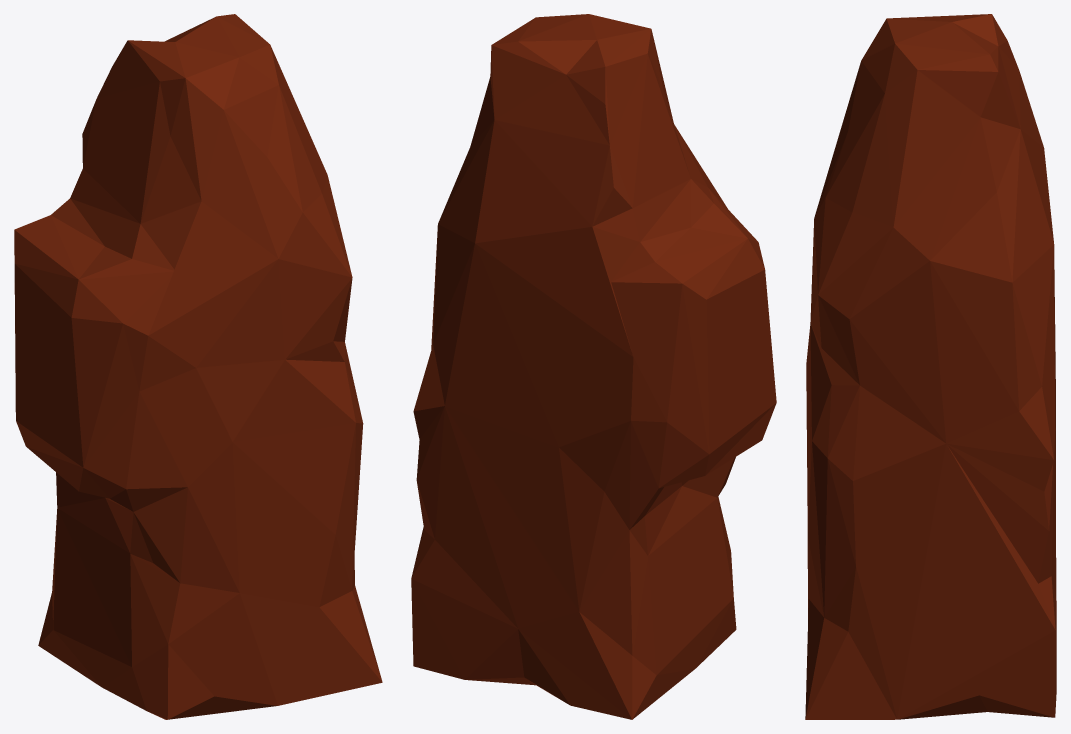
Rendered from stone1.fbx.
3 renders of one model, left to right at view 1: azimuth 30°, elevation 25°; view 2: azimuth 150°, elevation 25°; view 3: azimuth 270°, elevation 25°, orthographic.
Parts seen in each view (by area): view 1: Cube; view 2: Cube; view 3: Cube.
Boxes of the visible parts, bbox=[...] form: Cube: bbox=[14, 14, 382, 719]; Cube: bbox=[411, 14, 776, 719]; Cube: bbox=[805, 14, 1056, 719].
Bounding box in the file's own units: 254 × 555 × 200.
